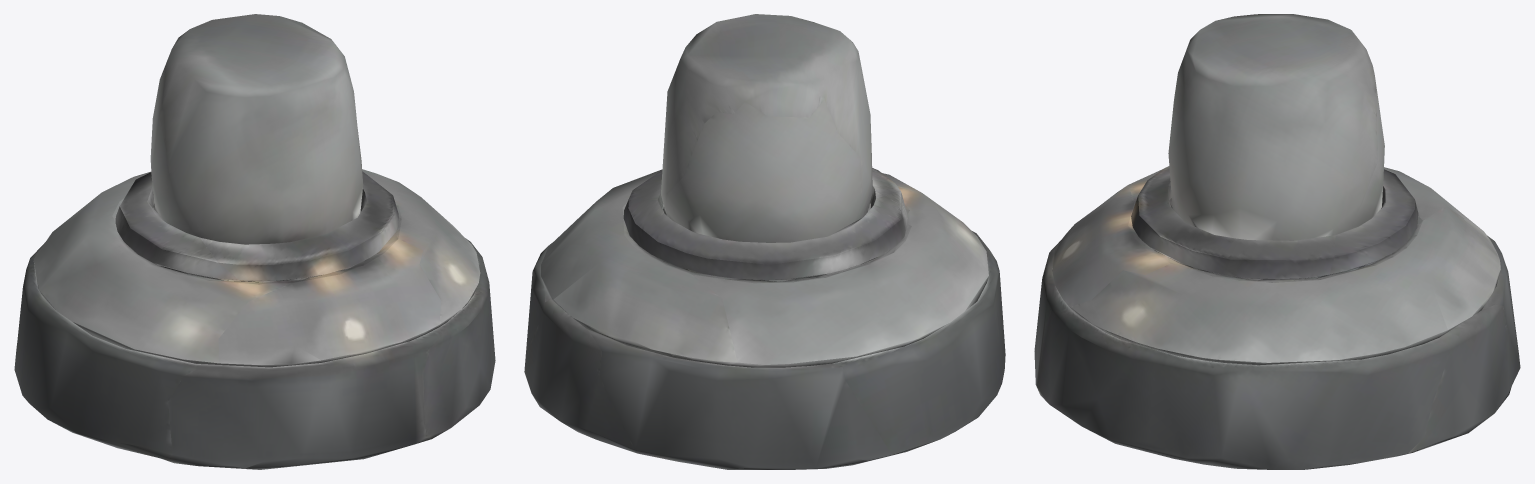
Rendered from m2ColorSwitch.glb.
The picture shows the model from 3 angles, left to right: view 1: azimuth 30°, elevation 25°; view 2: azimuth 150°, elevation 25°; view 3: azimuth 270°, elevation 25°; orthographic projection.
Visible parts, largest first — view 1: model; view 2: model; view 3: model.
Boxes of the visible parts, left/top/right/bottom form: model: left=14, top=14, right=495, bottom=469; model: left=524, top=14, right=1005, bottom=469; model: left=1034, top=14, right=1520, bottom=469.
Bounding box in the file's own units: 1.9 × 1.42 × 1.88.
1 material, 1 textured.
